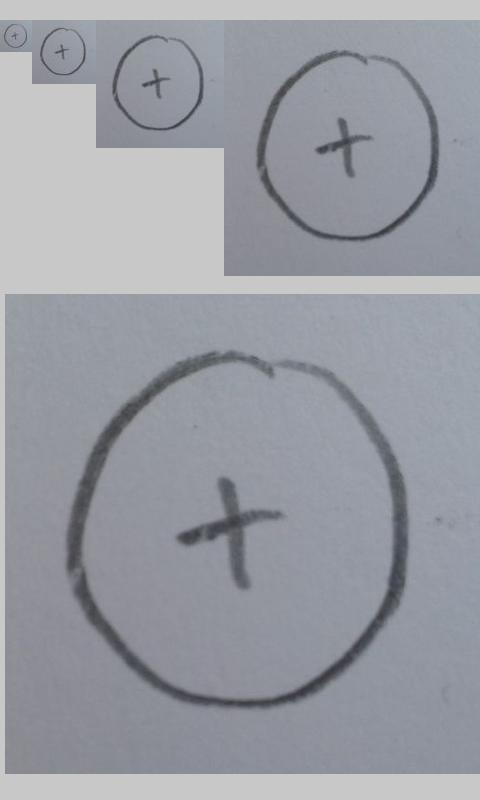button: (64, 347, 409, 712), (254, 50, 440, 243), (112, 34, 205, 132), (39, 27, 86, 76), (3, 23, 28, 49)
